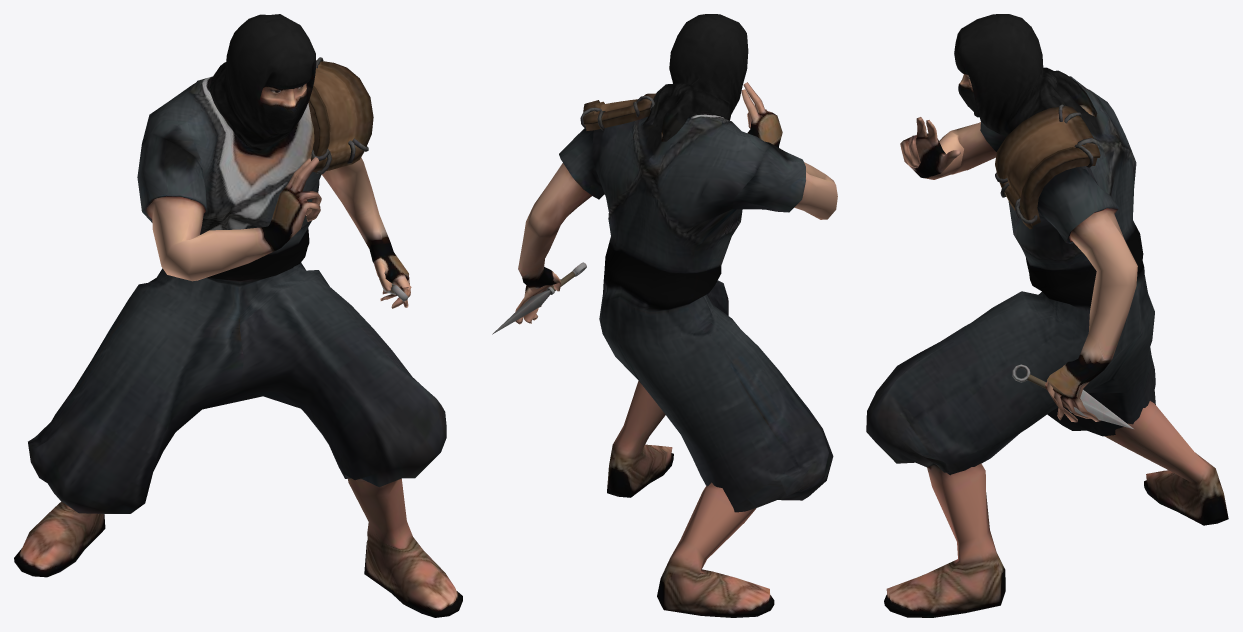
Rendered from 33-shinobi.glb.
The picture shows the model from 3 angles, left to right: view 1: azimuth 30°, elevation 25°; view 2: azimuth 150°, elevation 25°; view 3: azimuth 270°, elevation 25°; orthographic projection. The views are drawn at different scales.
Size of the model in its own units: 1.12 by 1.7 by 1.04.
2 materials, 2 textured.
